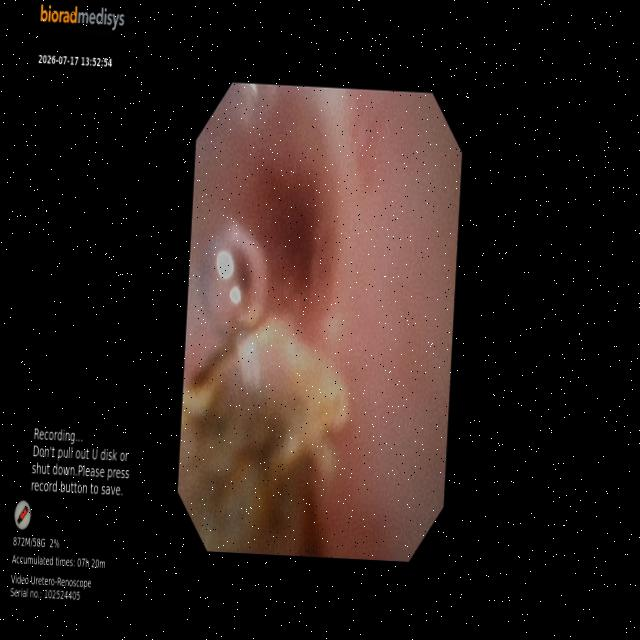stone-new: (179, 319, 348, 552)
